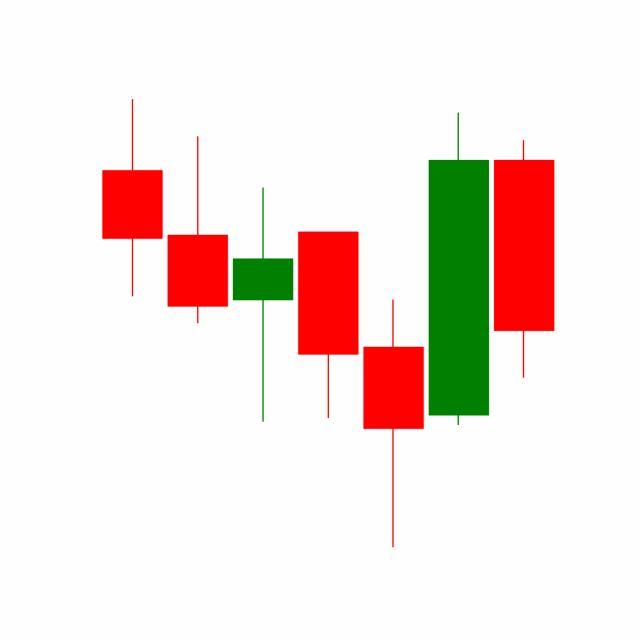Hikkake Pattern: (165, 108, 492, 549)
